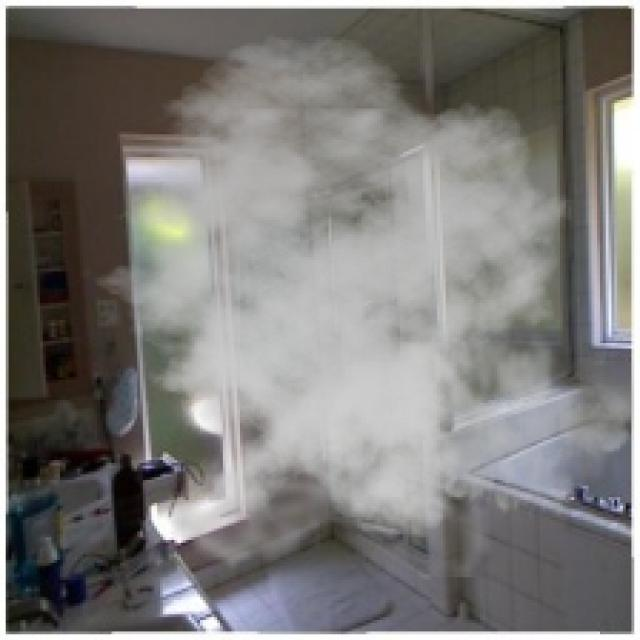smoke: (71, 34, 634, 577)
